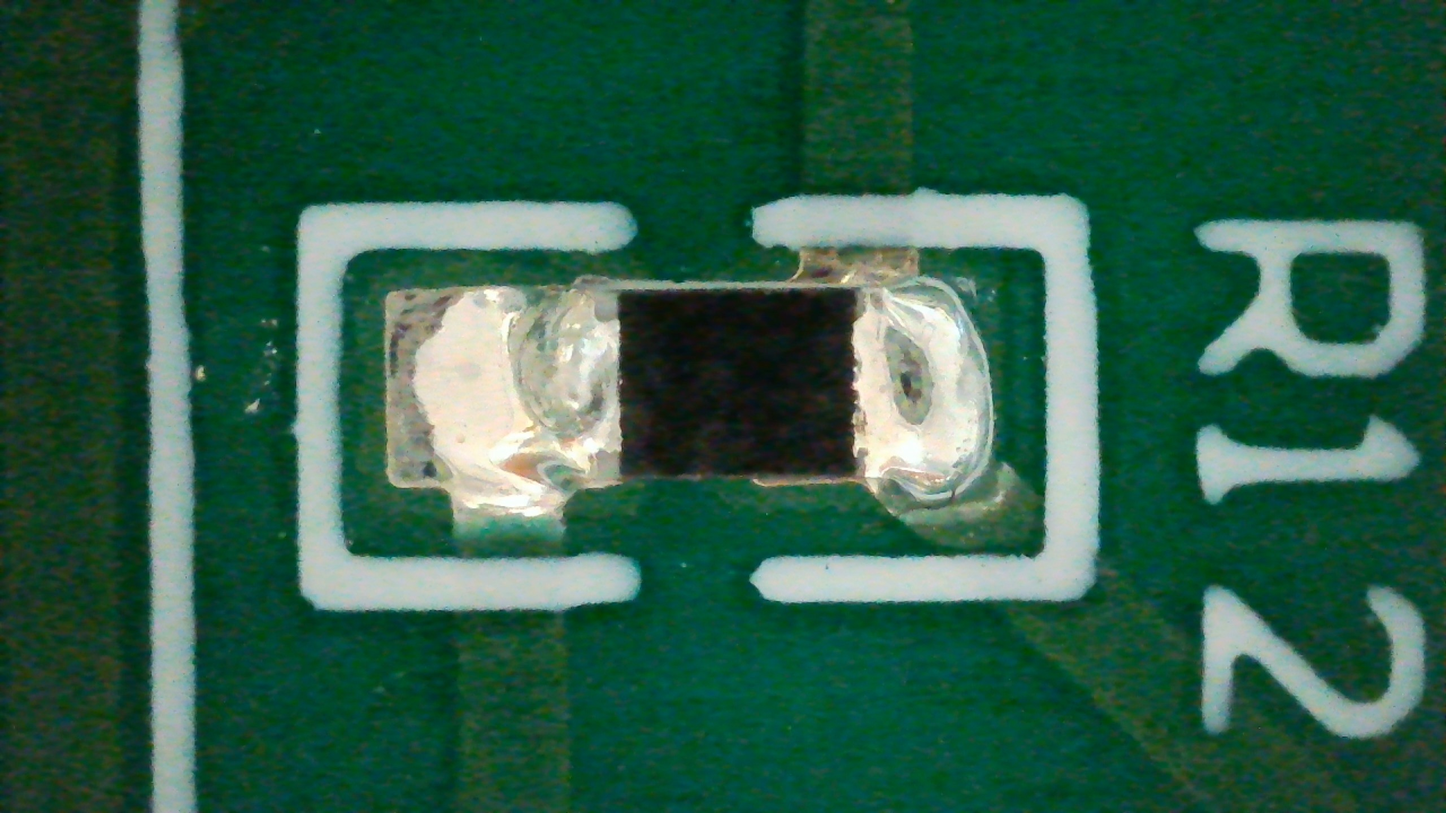OK: (389, 248, 994, 519)
